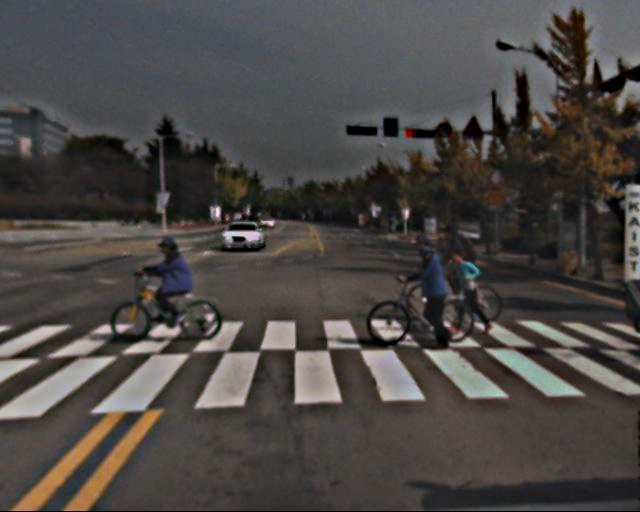cyclist: (435, 218, 486, 315)
person: (408, 231, 465, 355), (442, 241, 488, 349), (152, 238, 197, 332)
